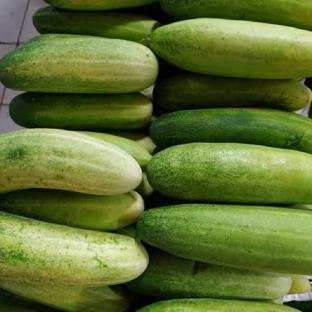Cucumber: (137, 204, 311, 274), (0, 212, 148, 286), (147, 143, 311, 204), (150, 19, 311, 78), (0, 129, 142, 195), (0, 35, 158, 93), (127, 249, 291, 299), (150, 108, 311, 153), (0, 189, 144, 230), (154, 74, 311, 110), (10, 93, 152, 130), (33, 7, 161, 45), (0, 280, 131, 311), (83, 132, 151, 169), (139, 299, 297, 311), (0, 289, 56, 311), (120, 1, 173, 23), (111, 132, 155, 154), (24, 34, 94, 45), (145, 191, 188, 208), (136, 173, 153, 199), (288, 275, 310, 294), (115, 225, 139, 240), (284, 301, 311, 311), (140, 85, 154, 99), (266, 298, 283, 304), (291, 205, 311, 210)
